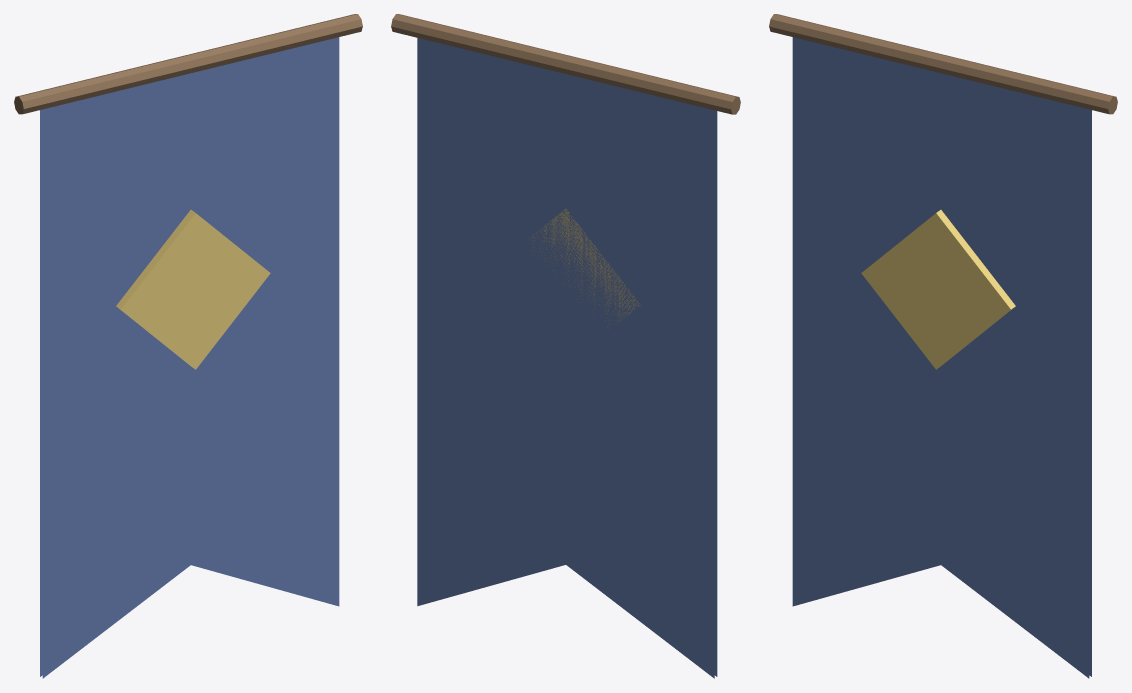
Rendered from banner_blue.glb.
3 views of the same model, side by side, from view 1: azimuth 30°, elevation 25°; view 2: azimuth 150°, elevation 25°; view 3: azimuth 330°, elevation 25° (orthographic).
Visible parts, largest first — view 1: banner_blue; view 2: banner_blue; view 3: banner_blue.
Part boxes in pixels (bbox=[...]): banner_blue: bbox=[14, 14, 362, 678]; banner_blue: bbox=[391, 14, 740, 678]; banner_blue: bbox=[769, 14, 1117, 678].
Bounding box in the file's own units: 1.6 × 2.64 × 0.0999.
